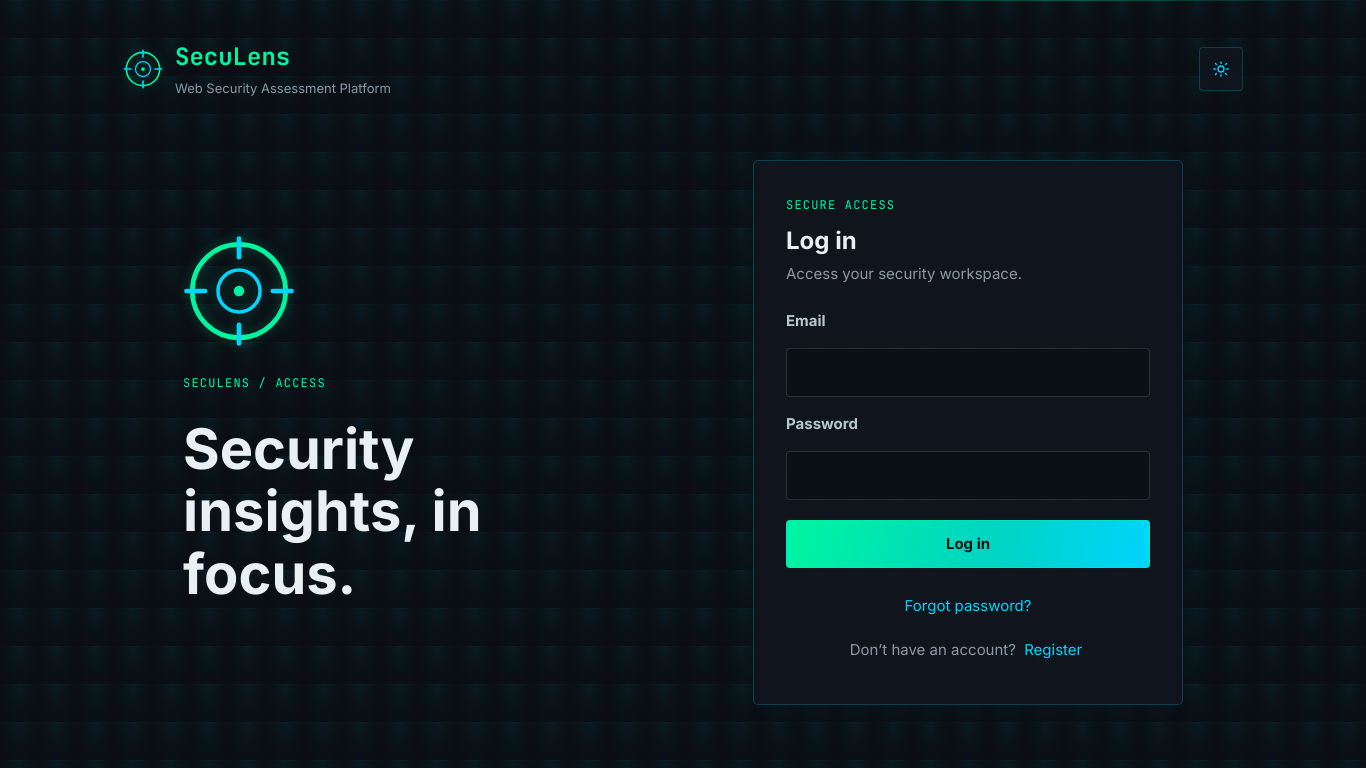
Scenario: shows the same generic confirmation after requesting a reset link
The image size is (1366, 768).
Click the button "Forgot password?" at (968, 606), box [901,584,1035,628]
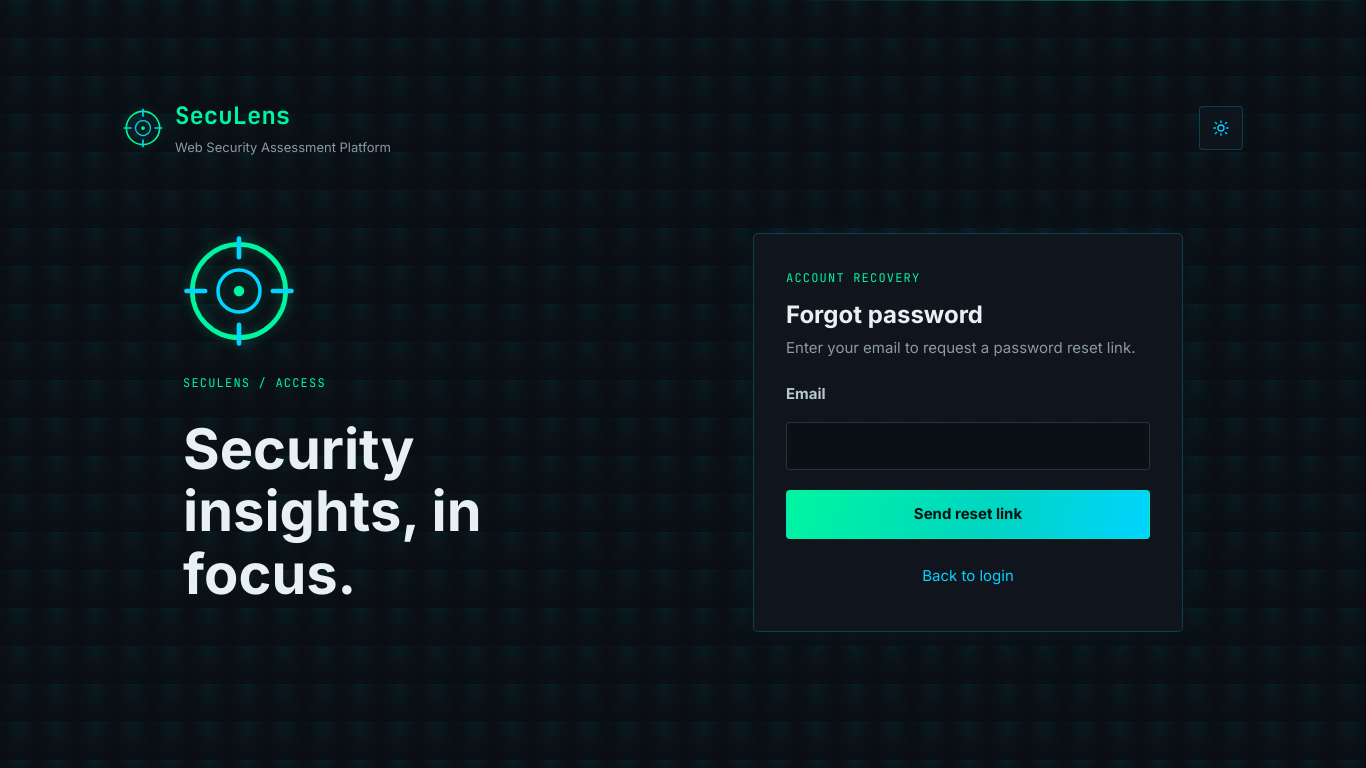
Type "person@example.com" into the field labelled "Email" at (968, 446), box [786,422,1150,470]
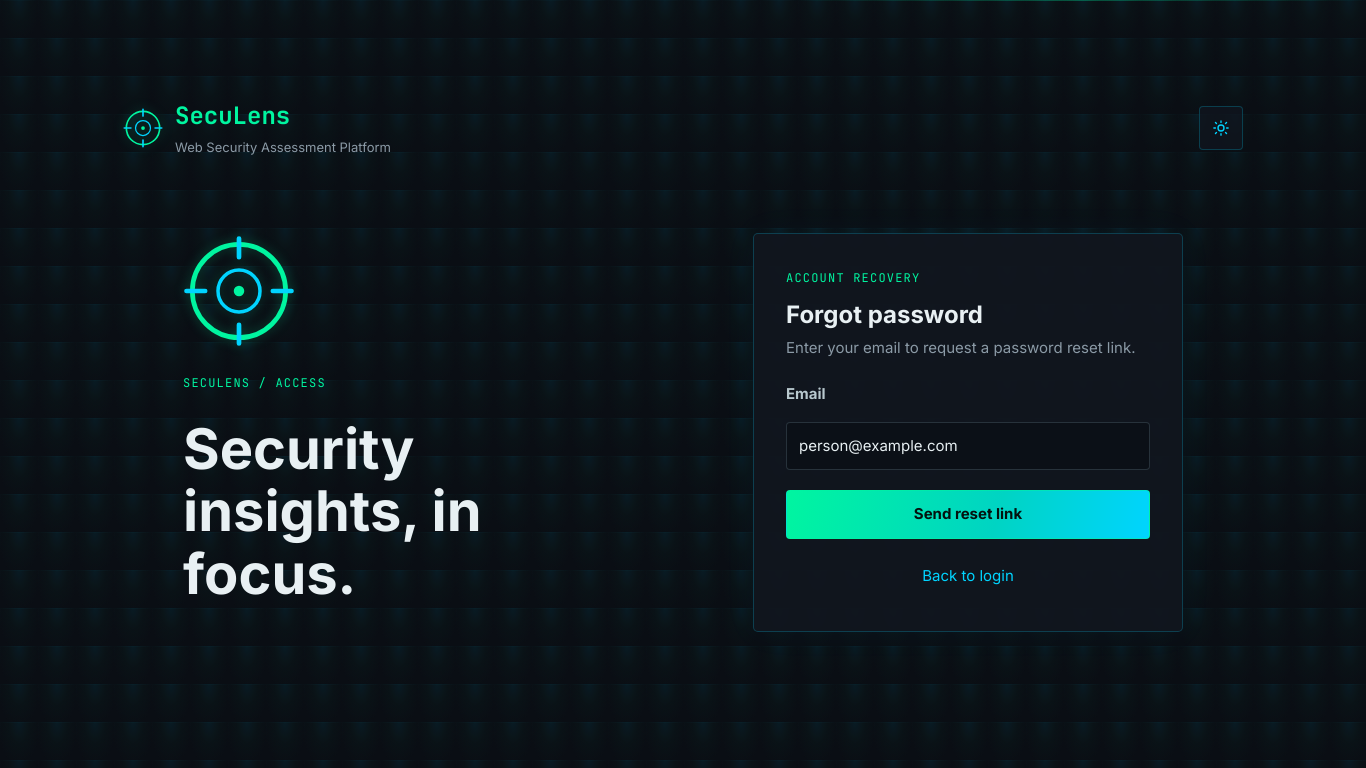
Click the button "Send reset link" at (968, 514), box [786,490,1150,539]
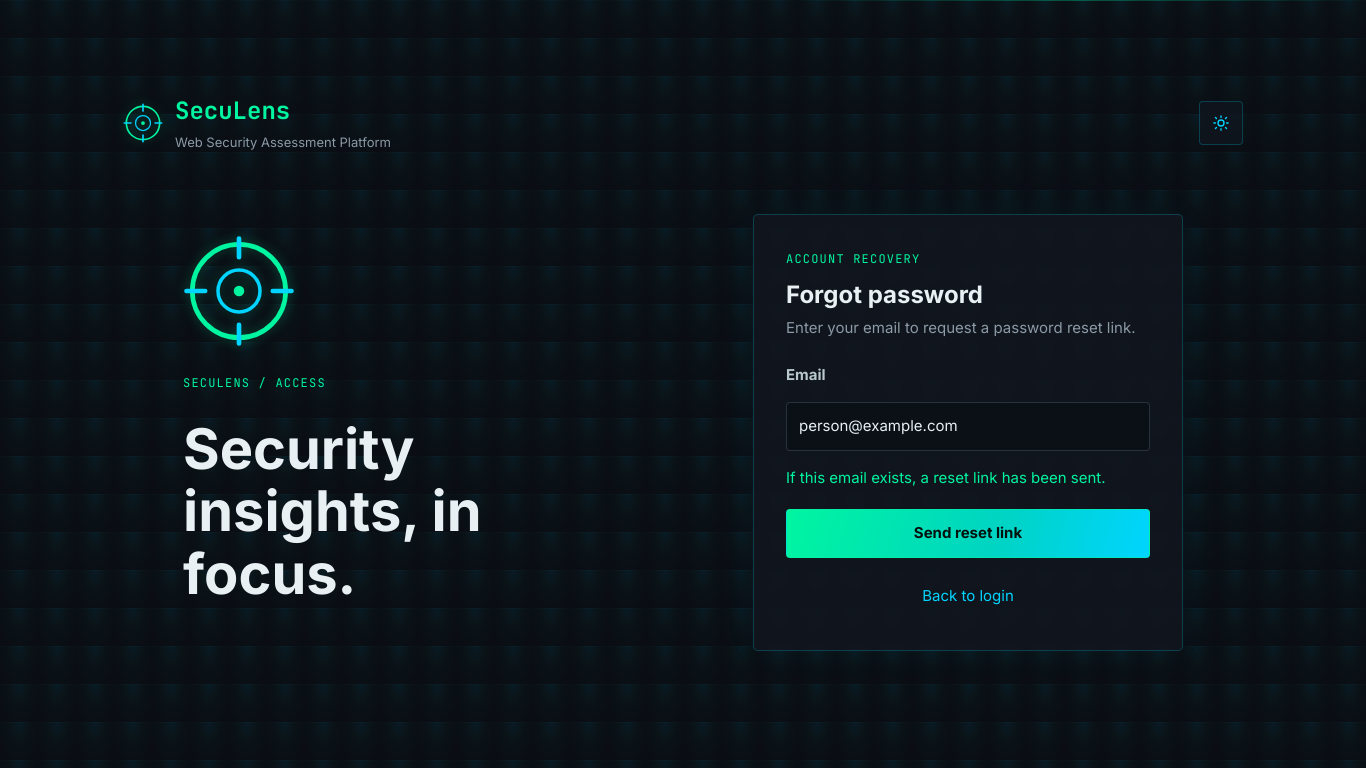
Expected: the message reads "If this email exists, a reset link has been sent.", [786,468,1106,487]
